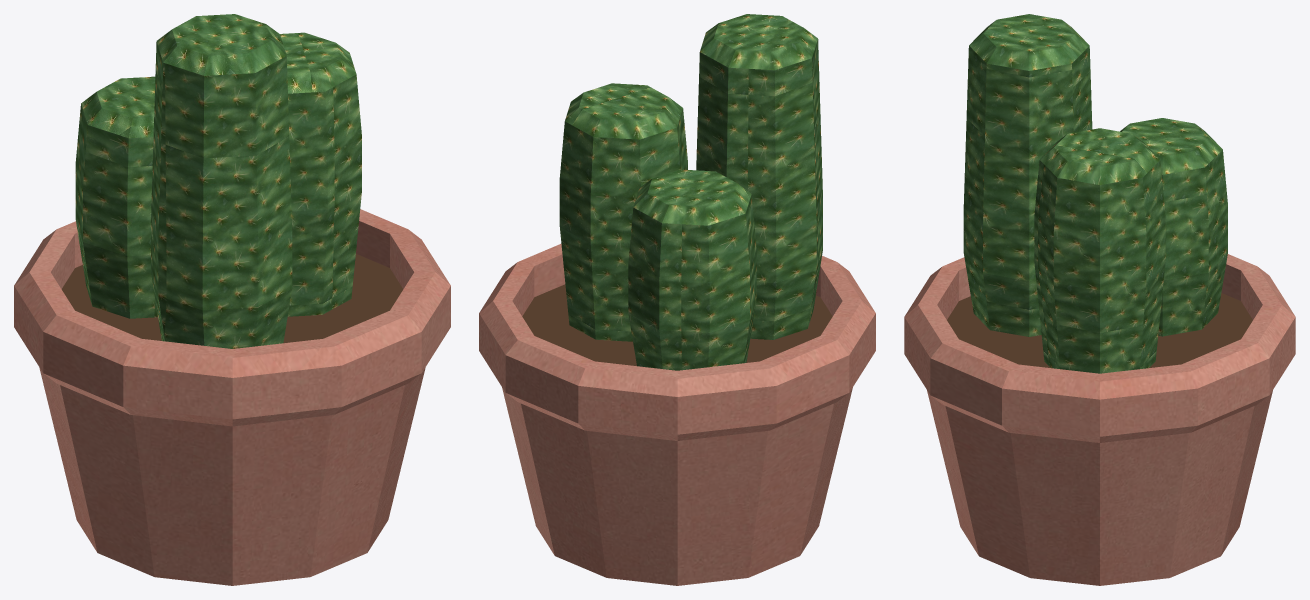
Rendered from cactus.fbx.
The picture shows the model from 3 angles, left to right: view 1: azimuth 30°, elevation 25°; view 2: azimuth 150°, elevation 25°; view 3: azimuth 270°, elevation 25°; orthographic projection. The views are drawn at different scales.
Parts seen in each view (by area): view 1: Plant B; view 2: Plant B; view 3: Plant B.
Part boxes in pixels (bbox=[...]): Plant B: bbox=[14, 14, 450, 585]; Plant B: bbox=[479, 14, 875, 585]; Plant B: bbox=[904, 14, 1295, 585].
Bounding box in the file's own units: 91.16 × 121 × 91.16.
3 materials, 2 textured.
